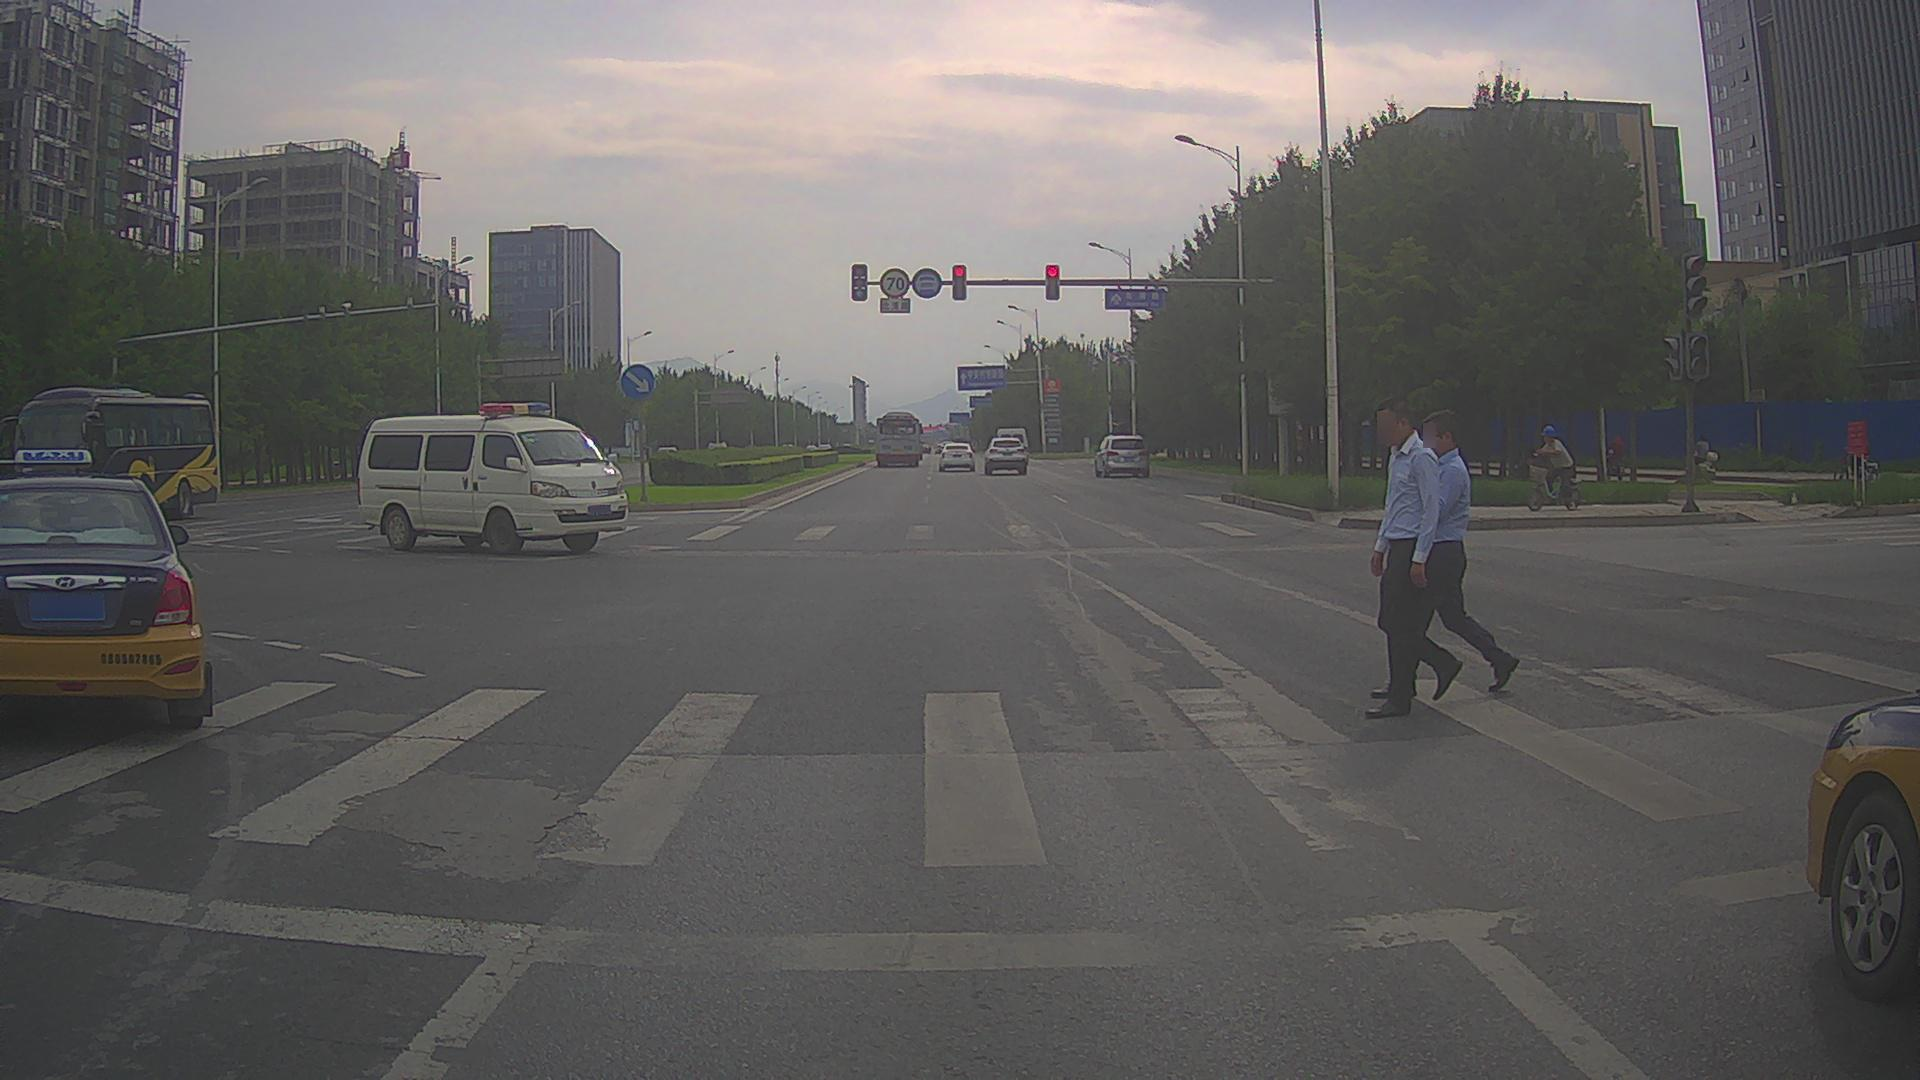bus: (0, 386, 221, 520), (874, 411, 924, 468)
car: (0, 448, 213, 732), (1805, 695, 1920, 1005), (980, 436, 1028, 476), (937, 442, 976, 472)
cyclist: (1525, 424, 1581, 512)
ignore: (656, 437, 875, 454), (922, 439, 955, 455)
motorcyclist: (1832, 431, 1879, 486), (1597, 430, 1631, 481), (1687, 432, 1719, 481)
pedestrian: (1369, 408, 1520, 698), (1363, 395, 1463, 720)
van: (356, 401, 629, 556), (1093, 433, 1150, 478), (994, 427, 1030, 466)
